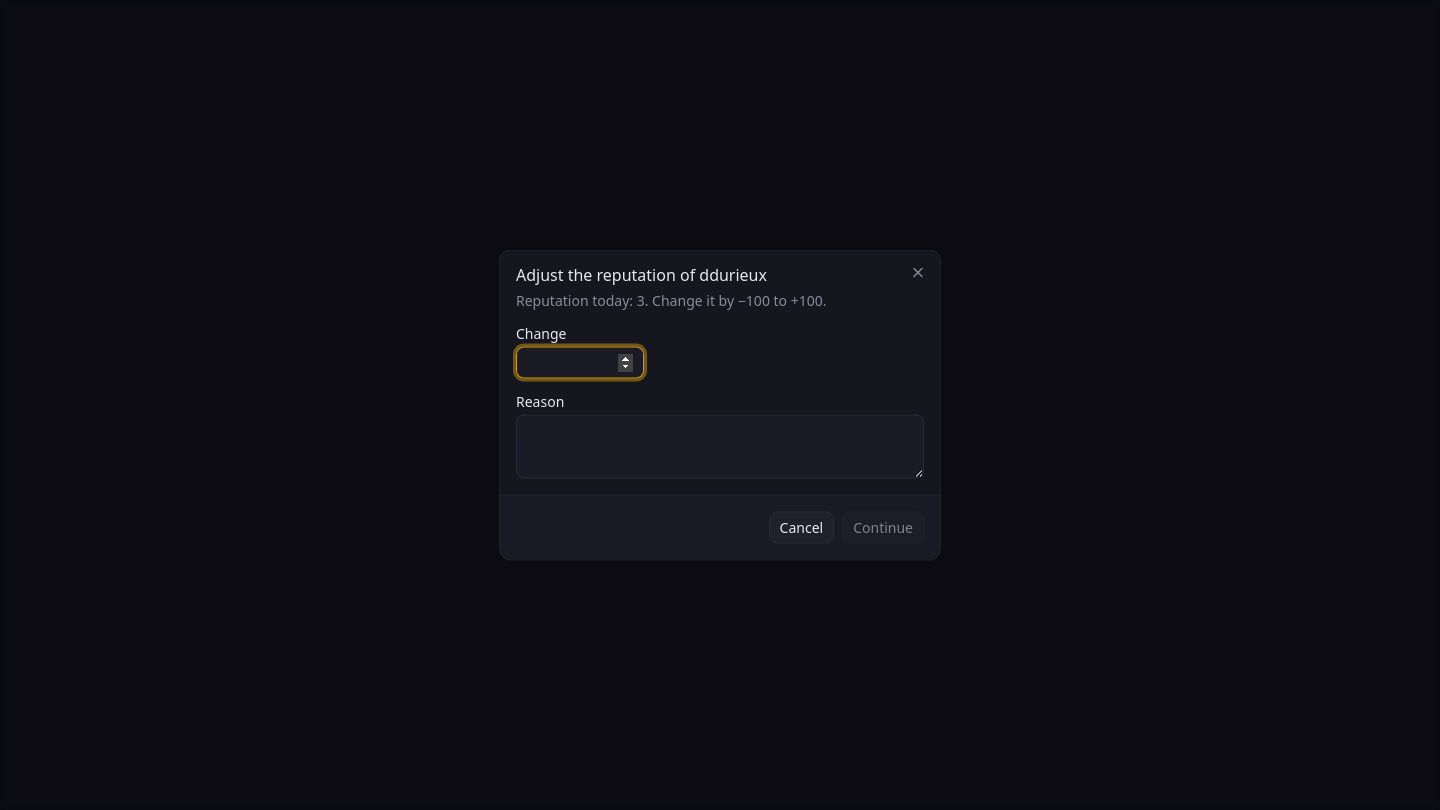
Test: ReputationDialog › refuses a change out of −100…100 or a missing reason
Type "150" into the number field labelled "Change" at (580, 362), box 516,346 -> 644,378
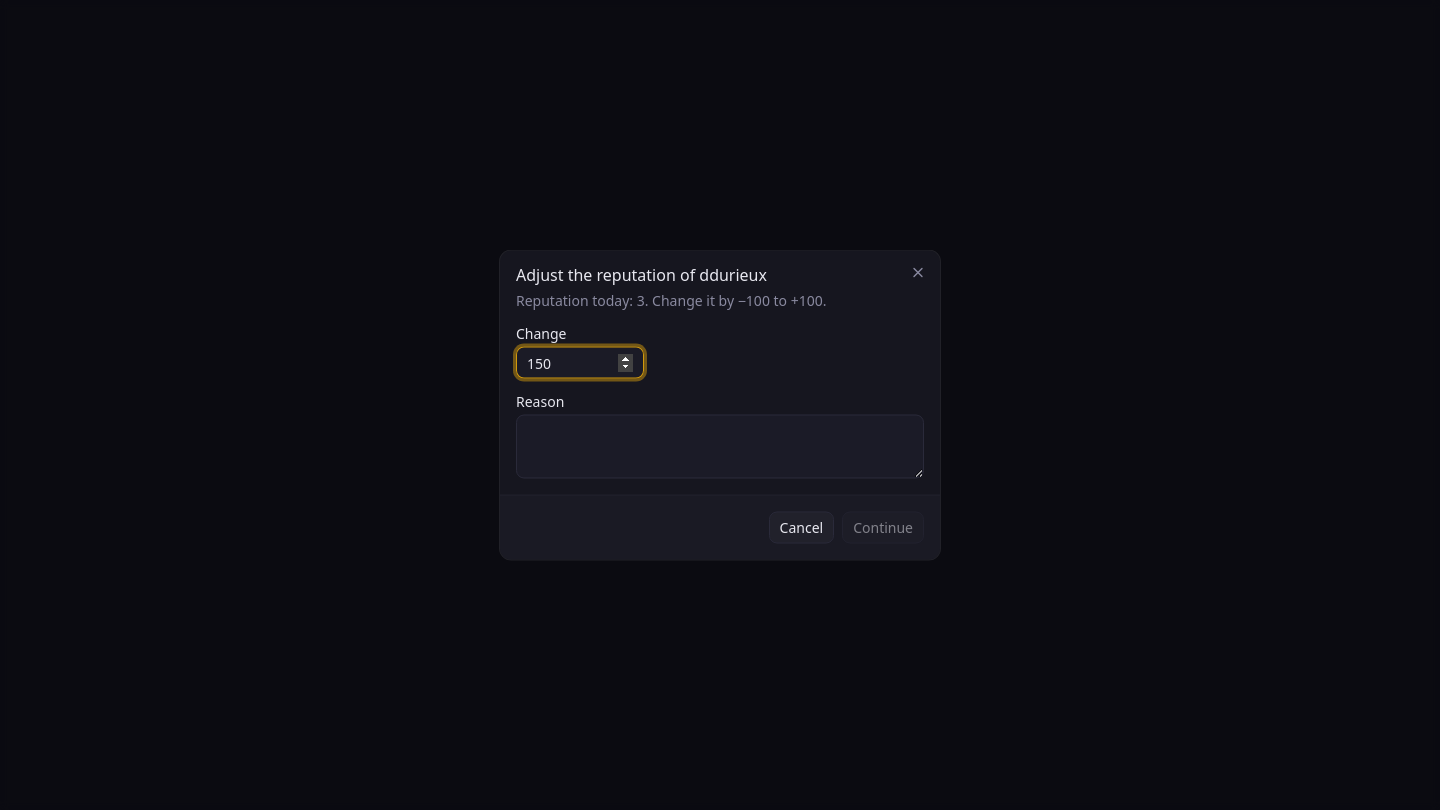
Type "Helped" into the text box labelled "Reason" at (720, 446), box 516,414 -> 924,478
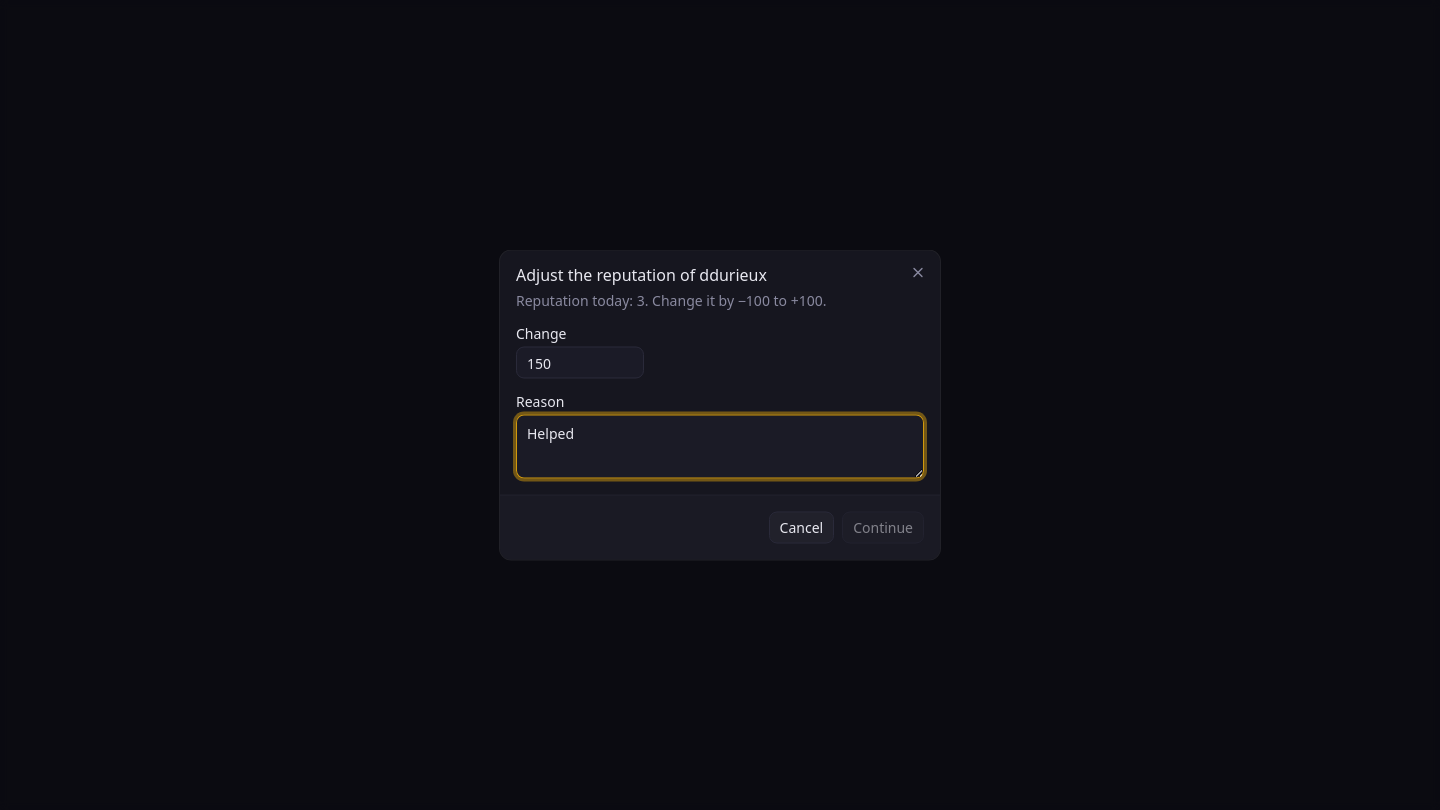
Expected: the button "Continue" is disabled, 842,512 -> 924,544
Replace the text in the number field labelled "Change" with "10" at (580, 362), box 516,346 -> 644,378
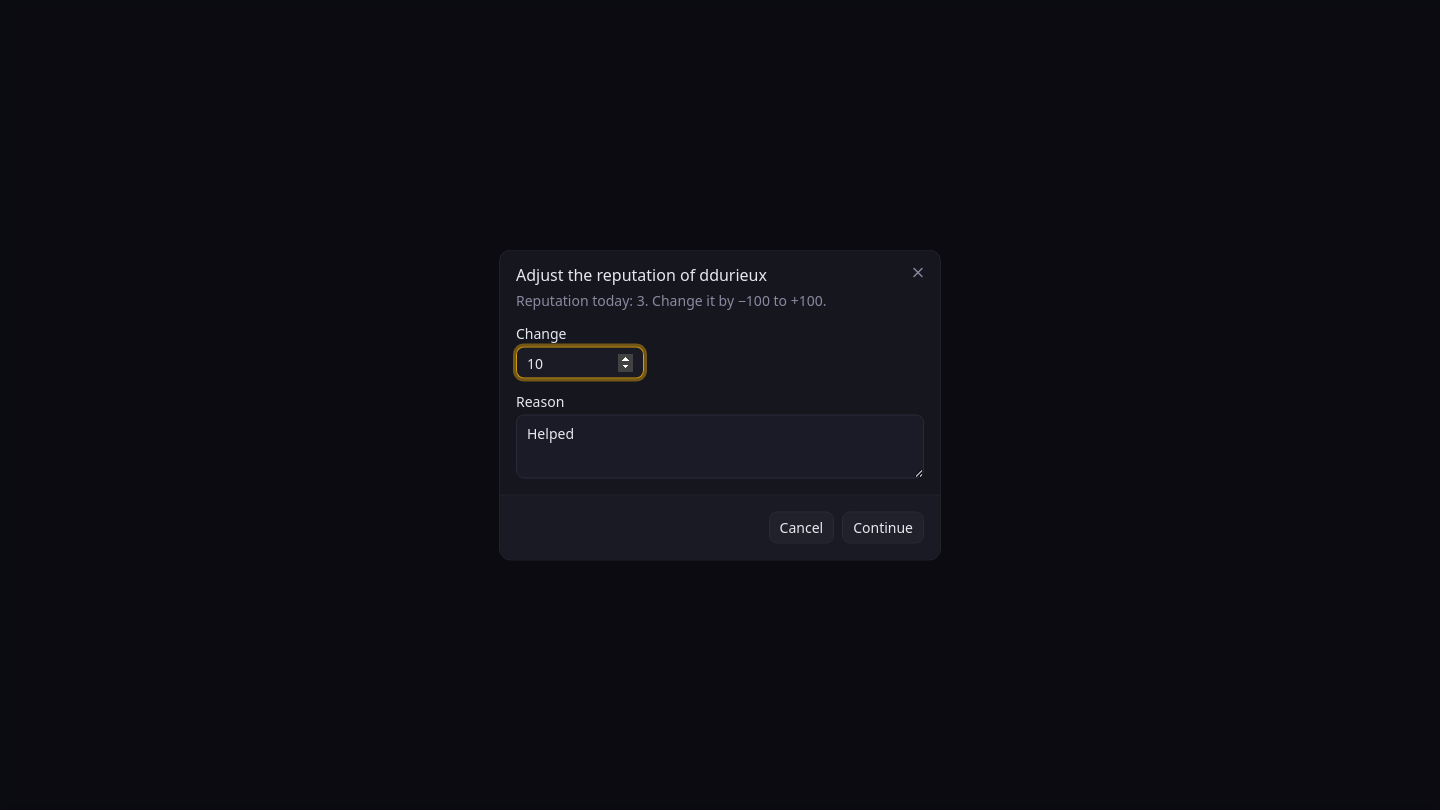
Now the button "Continue" is enabled, box 842,512 -> 924,544
